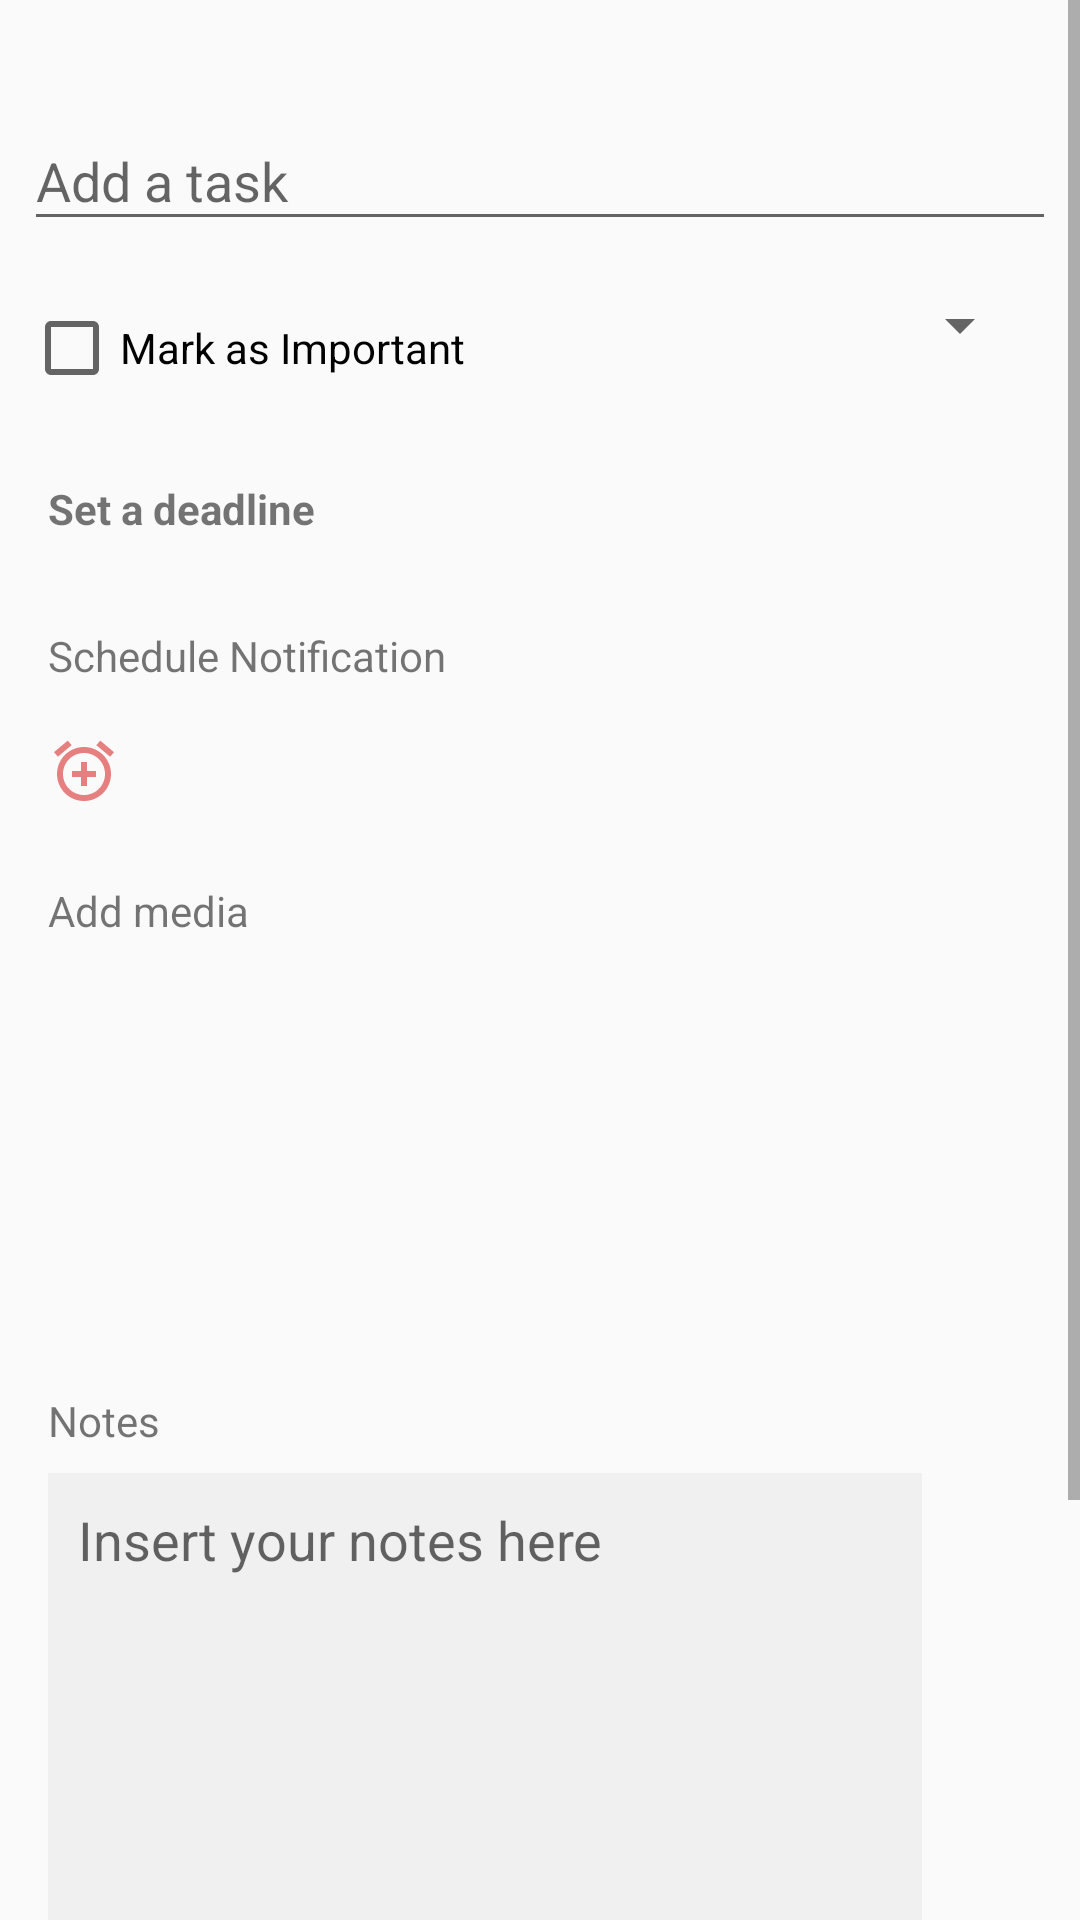

Icon click points for this 1080px×1920px phone screenshot, format [x,y]:
add alarm: [84,771]
